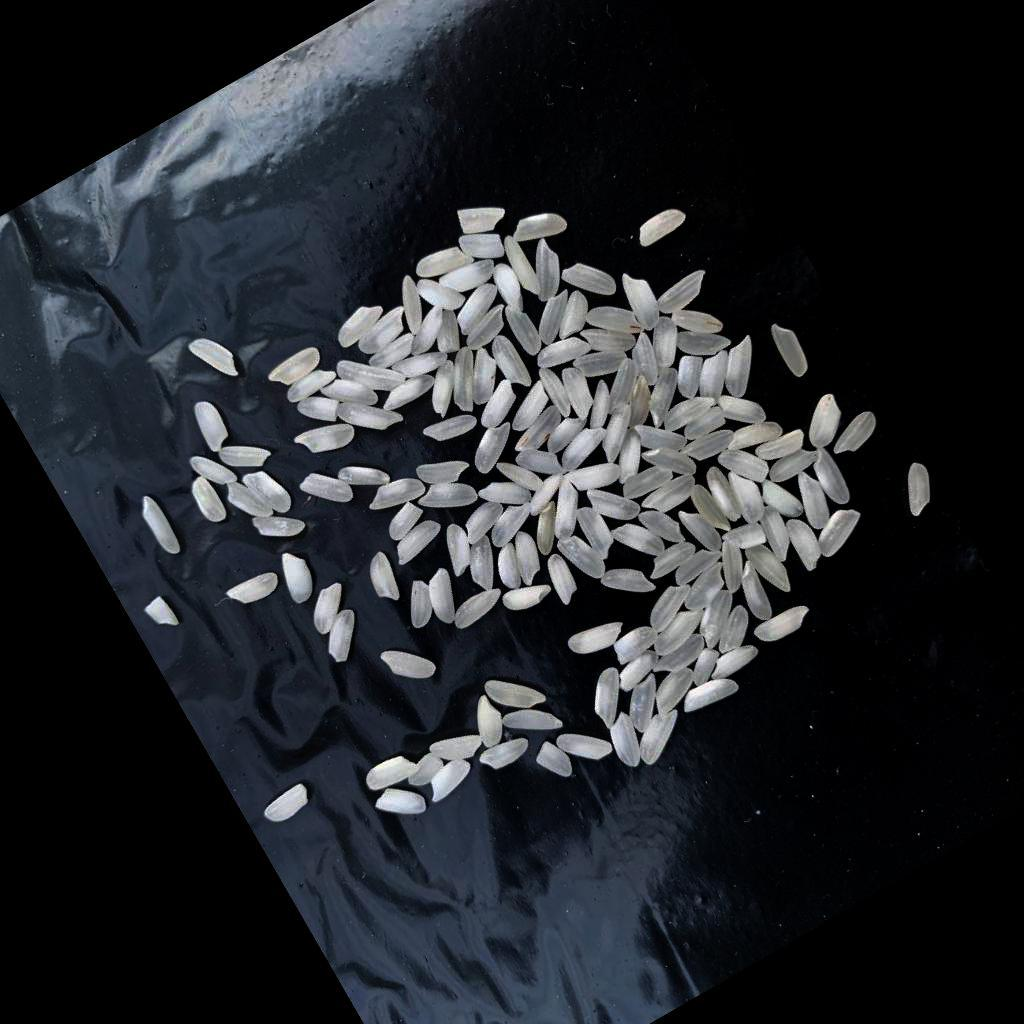rice: (335, 337, 409, 409), (337, 381, 406, 447), (435, 344, 499, 415), (687, 586, 753, 652), (711, 334, 776, 401), (628, 706, 695, 769), (484, 661, 549, 725), (634, 365, 699, 429), (515, 237, 576, 305), (414, 468, 482, 529), (588, 403, 652, 466), (581, 665, 642, 731), (616, 672, 678, 736), (534, 476, 594, 542), (585, 292, 647, 354), (501, 692, 566, 751), (687, 348, 748, 410), (560, 250, 621, 312), (808, 502, 873, 560), (295, 409, 361, 466), (555, 715, 617, 775), (321, 366, 383, 426), (584, 472, 644, 534), (592, 357, 654, 417), (527, 288, 589, 348), (447, 279, 511, 337), (636, 313, 694, 376), (464, 418, 527, 476), (640, 578, 704, 635), (506, 404, 571, 460), (787, 467, 842, 533), (744, 537, 799, 603), (647, 603, 713, 658), (795, 393, 855, 453), (381, 632, 441, 692), (454, 346, 512, 408), (717, 435, 776, 495), (315, 606, 374, 666), (612, 511, 671, 571), (641, 433, 700, 493), (581, 309, 641, 368), (599, 554, 660, 612), (413, 236, 478, 290), (352, 304, 417, 358), (616, 267, 669, 333), (674, 313, 735, 370), (499, 379, 560, 436), (418, 359, 475, 420), (644, 663, 706, 719), (418, 565, 473, 628), (385, 273, 439, 337), (730, 558, 782, 624), (299, 460, 358, 518), (633, 407, 691, 466), (242, 462, 297, 524), (676, 560, 738, 615), (556, 527, 611, 589), (509, 201, 571, 256), (553, 419, 616, 473), (136, 493, 186, 561), (498, 233, 548, 301), (806, 444, 857, 510), (600, 426, 657, 485), (371, 775, 431, 831), (398, 303, 458, 359), (222, 469, 277, 530), (190, 328, 245, 389), (459, 535, 514, 596), (564, 449, 626, 503), (824, 408, 887, 461), (567, 612, 630, 665), (780, 512, 832, 576), (365, 468, 429, 520), (669, 294, 727, 351), (252, 496, 311, 552), (891, 459, 946, 519), (601, 710, 654, 772), (272, 546, 325, 608), (440, 251, 503, 303), (648, 631, 712, 682), (639, 471, 703, 522), (486, 330, 537, 394), (470, 377, 528, 433), (303, 580, 360, 636), (621, 330, 673, 391), (723, 464, 774, 526), (725, 410, 787, 461), (679, 669, 742, 719), (653, 267, 716, 317), (514, 437, 570, 493), (522, 500, 577, 557), (544, 288, 601, 343), (478, 468, 536, 522), (459, 302, 519, 354), (332, 298, 393, 349), (768, 317, 817, 380), (453, 190, 511, 243), (707, 537, 759, 596), (503, 528, 554, 588), (754, 600, 816, 649), (658, 387, 720, 436), (716, 382, 770, 438), (612, 375, 666, 431), (219, 430, 276, 483), (756, 470, 808, 528), (416, 445, 474, 497), (429, 722, 488, 773), (573, 337, 632, 388), (363, 747, 423, 797), (679, 499, 729, 559), (534, 328, 594, 378), (267, 343, 328, 392), (706, 603, 762, 656), (421, 754, 480, 804), (754, 504, 802, 565), (457, 220, 511, 274), (416, 266, 469, 321), (337, 452, 393, 504), (638, 499, 690, 555), (464, 692, 514, 750), (226, 565, 285, 614), (556, 361, 605, 420), (423, 404, 482, 453), (450, 584, 510, 632), (681, 422, 741, 470), (632, 202, 692, 250), (392, 339, 452, 387), (702, 463, 749, 524), (434, 521, 484, 578), (189, 397, 238, 455), (361, 549, 410, 607), (574, 378, 626, 432), (378, 369, 439, 415), (395, 576, 446, 631), (670, 542, 729, 589), (190, 444, 241, 498), (457, 497, 513, 546), (611, 647, 668, 695), (754, 423, 812, 470), (619, 459, 677, 506), (707, 638, 766, 684), (688, 481, 734, 540), (667, 349, 718, 402), (261, 780, 317, 828), (489, 260, 535, 318), (479, 730, 536, 776), (540, 551, 586, 608), (283, 361, 341, 406), (502, 300, 547, 358), (497, 449, 546, 502), (540, 409, 595, 456), (297, 385, 348, 435), (500, 572, 555, 618), (644, 537, 700, 582), (611, 620, 665, 666), (367, 330, 423, 374), (531, 736, 577, 787), (425, 308, 471, 359), (489, 541, 534, 593), (187, 474, 230, 528), (538, 363, 579, 419), (382, 498, 431, 543), (404, 749, 451, 791), (685, 645, 730, 688), (144, 593, 182, 635)
